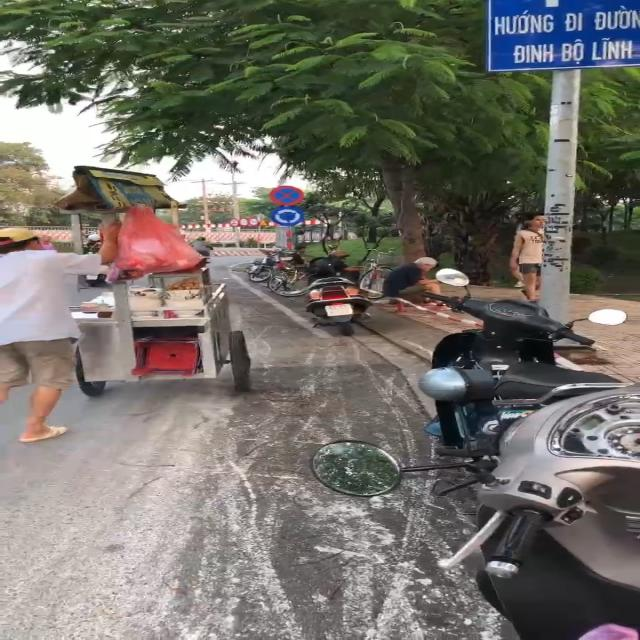Bien bao cam dung xe va do xe: (264, 184, 308, 207)
Bien bao noi giao nhau chay theo vong xuyen: (265, 208, 310, 228)
